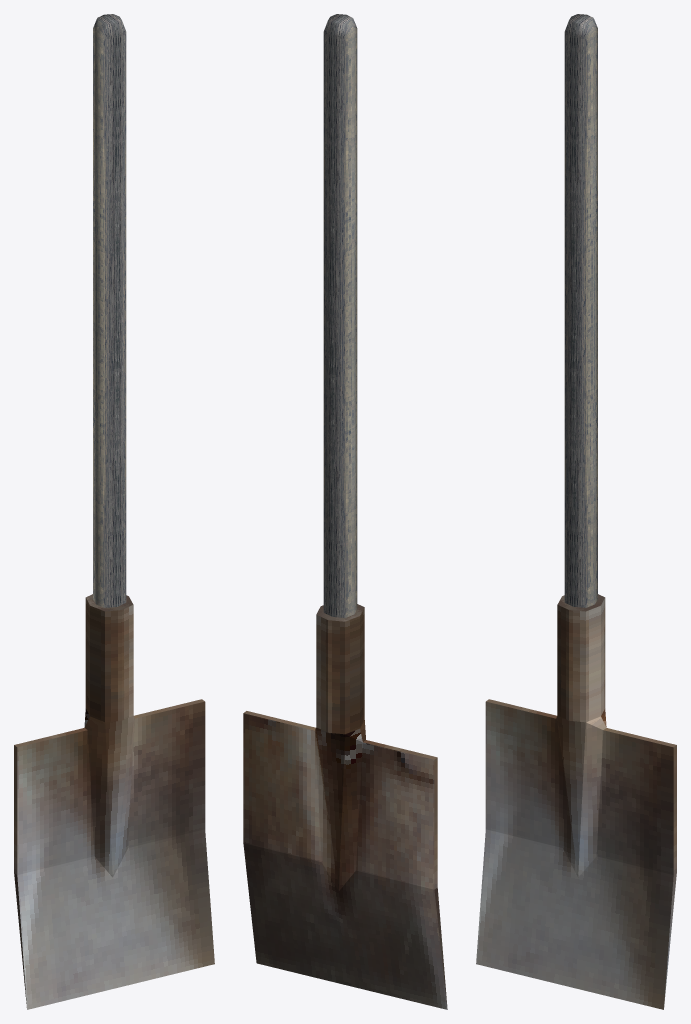
Rendered from shovel.glb.
3 views of the same model, side by side, from view 1: azimuth 30°, elevation 25°; view 2: azimuth 150°, elevation 25°; view 3: azimuth 330°, elevation 25° (orthographic).
Parts seen in each view (by area): view 1: Shovel, Handke; view 2: Shovel, Handke; view 3: Shovel, Handke.
Part boxes in pixels (bbox=[...]): Shovel: bbox=[14, 594, 214, 1009]; Handke: bbox=[93, 14, 126, 607]; Shovel: bbox=[243, 604, 447, 1009]; Handke: bbox=[323, 14, 357, 617]; Shovel: bbox=[476, 594, 676, 1009]; Handke: bbox=[564, 14, 597, 607].
Bounding box in the file's own units: 2 × 9.76 × 0.452.
2 materials, 2 textured.
